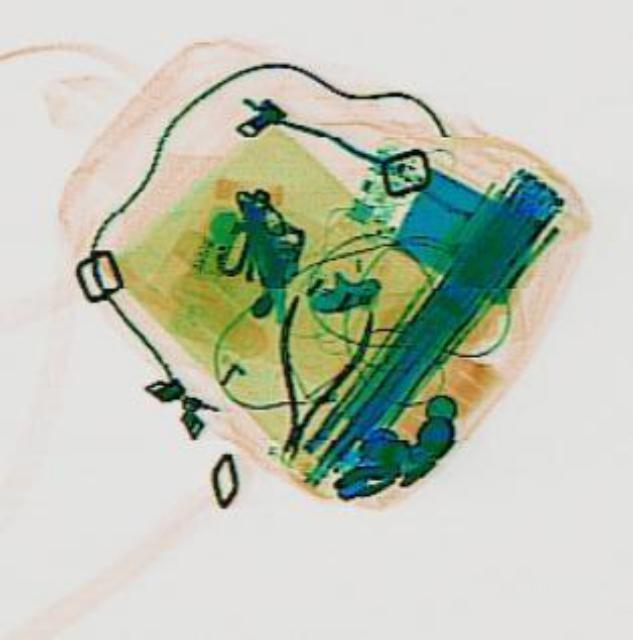Pliers: (241, 289, 374, 466)
